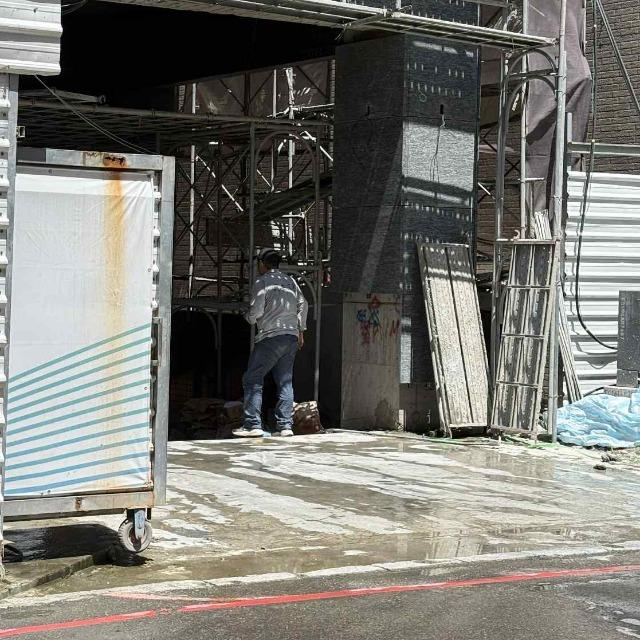NoVest: (249, 268, 305, 339)
